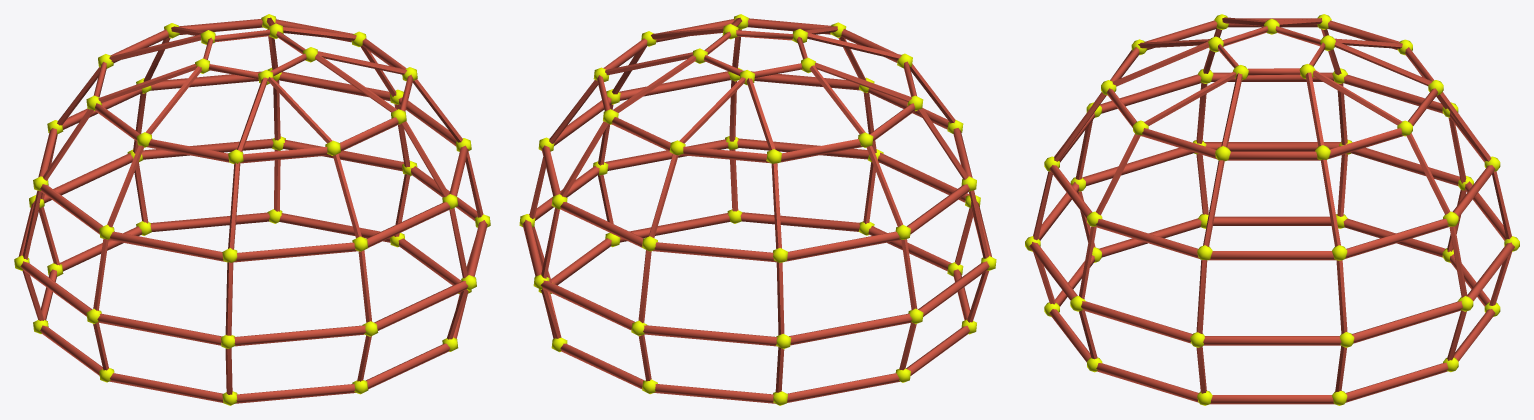
The model's file is ClimbingDome.gltf.
3 renders of one model, left to right at view 1: azimuth 30°, elevation 25°; view 2: azimuth 150°, elevation 25°; view 3: azimuth 270°, elevation 25°, orthographic.
Parts seen in each view (by area): view 1: SM_Game_Piramid_01__1_; view 2: SM_Game_Piramid_01__1_; view 3: SM_Game_Piramid_01__1_.
Boxes of the visible parts, <box> form: SM_Game_Piramid_01__1_: <box>14,14,490,405</box>; SM_Game_Piramid_01__1_: <box>519,14,996,405</box>; SM_Game_Piramid_01__1_: <box>1025,14,1519,405</box>.
Bounding box in the file's own units: 2.51 × 1.6 × 2.62.
1 material, 1 textured.
